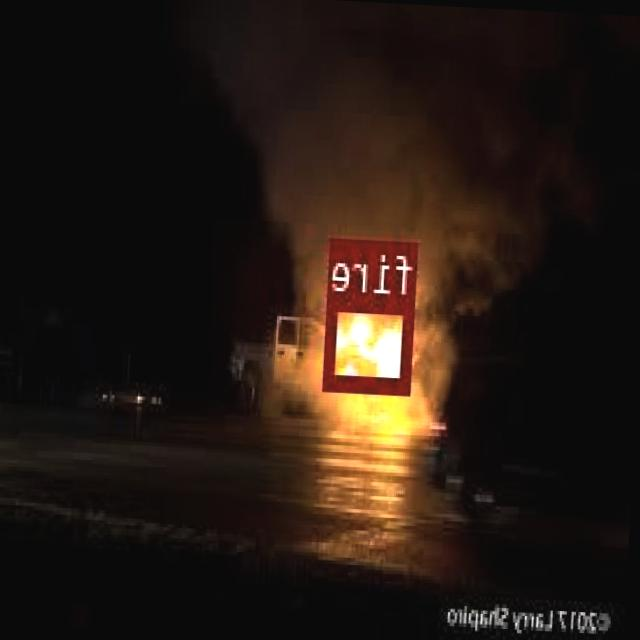fire: (325, 294, 417, 392)
